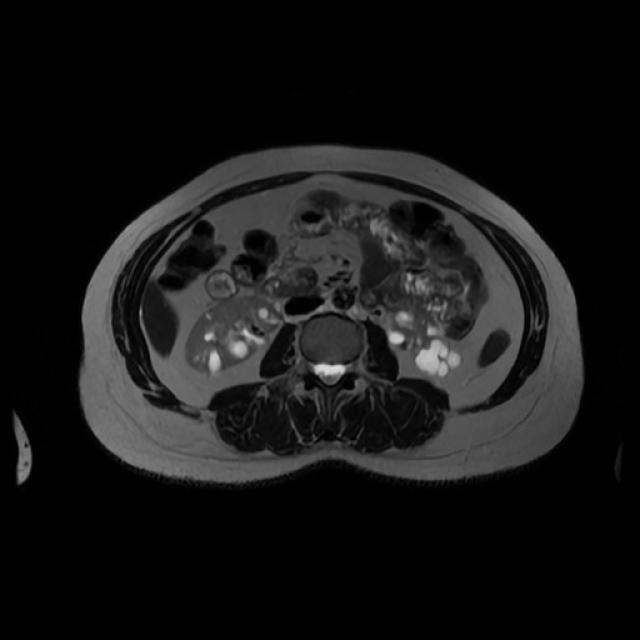sag: (185, 298, 284, 371)
sol: (389, 309, 459, 377)
